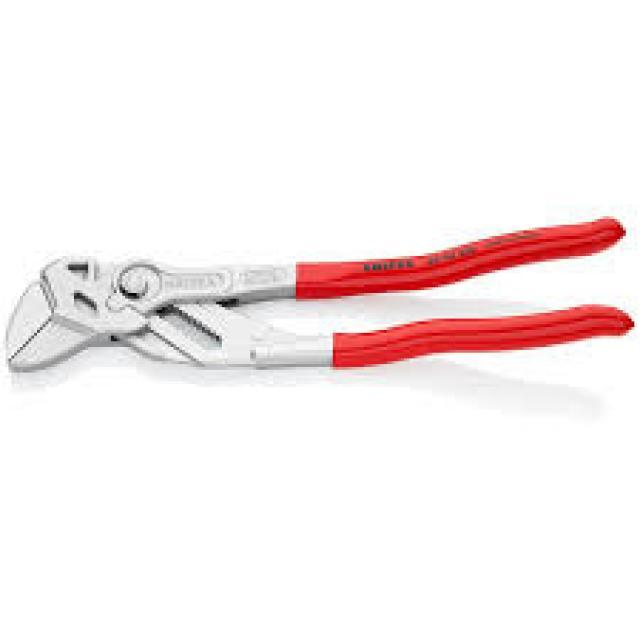pliers: (0, 196, 640, 412)
